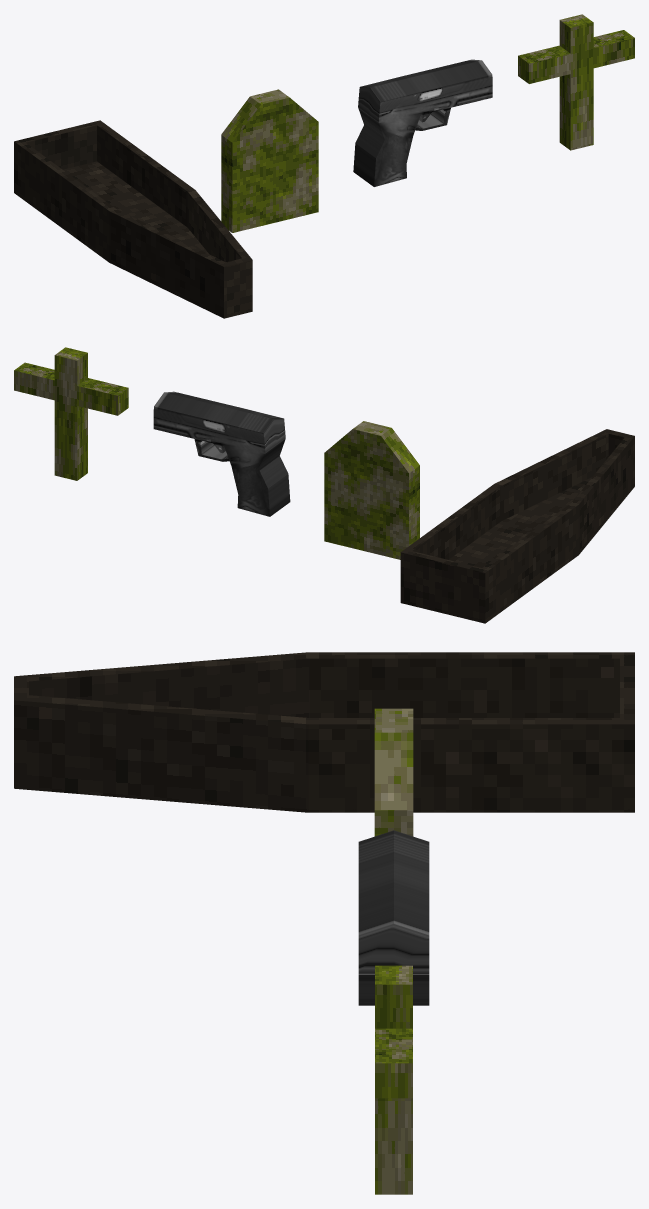
The model's file is cemiteerio.fbx.
3 renders of one model, top to bottom at view 1: azimuth 30°, elevation 25°; view 2: azimuth 150°, elevation 25°; view 3: azimuth 270°, elevation 25°, orthographic. The views are drawn at different scales.
Visible parts, largest first — view 1: caixao, lapide1, pistola, lapide2; view 2: caixao, lapide1, pistola, lapide2; view 3: caixao, pistola, lapide2, lapide1.
Boxes of the visible parts, bbox=[...] form: caixao: bbox=[14, 120, 252, 318]; lapide1: bbox=[221, 89, 318, 232]; pistola: bbox=[353, 59, 492, 186]; lapide2: bbox=[518, 14, 634, 150]; caixao: bbox=[400, 429, 634, 623]; lapide1: bbox=[324, 421, 419, 559]; pistola: bbox=[153, 391, 290, 516]; lapide2: bbox=[14, 347, 128, 480]; caixao: bbox=[14, 652, 634, 812]; pistola: bbox=[358, 830, 429, 1005]; lapide2: bbox=[375, 965, 412, 1194]; lapide1: bbox=[374, 708, 413, 836].
Bounding box in the file's own units: 1263 × 272 × 728.
